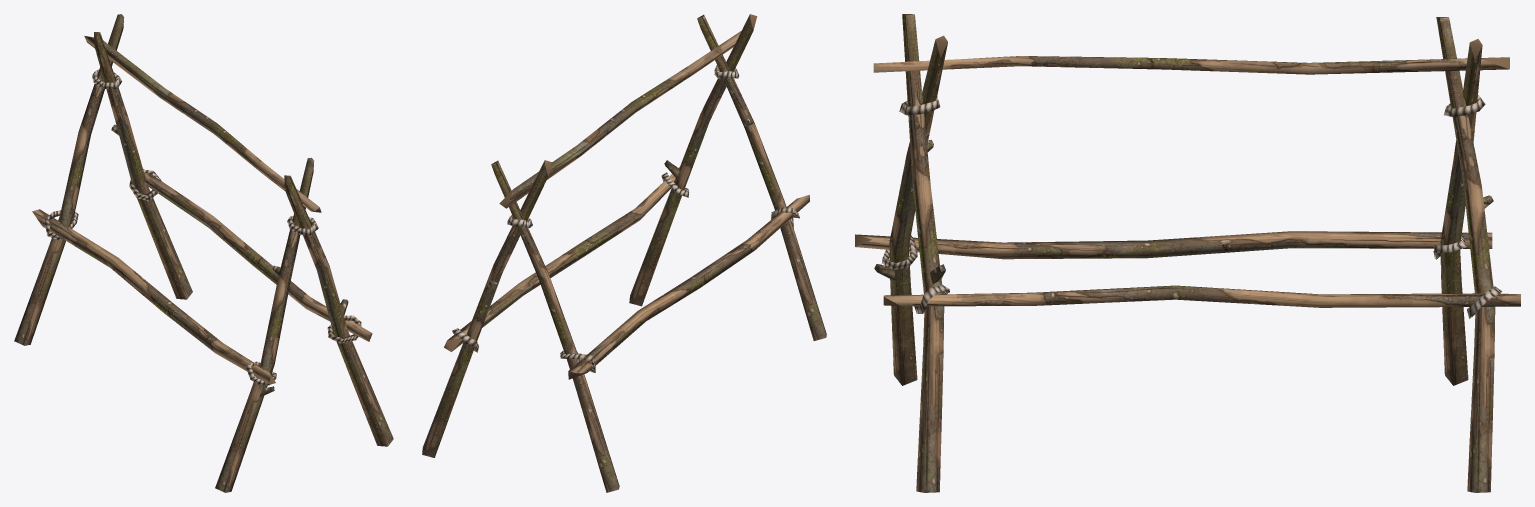
Rendered from trellis02.fbx.
The picture shows the model from 3 angles, left to right: view 1: azimuth 30°, elevation 25°; view 2: azimuth 150°, elevation 25°; view 3: azimuth 270°, elevation 25°; orthographic projection. The views are drawn at different scales.
Visible parts, largest first — view 1: trellis02; view 2: trellis02; view 3: trellis02.
Boxes of the visible parts, x1,y1,x2,y2 form: trellis02: [14, 14, 393, 492]; trellis02: [422, 14, 826, 492]; trellis02: [855, 14, 1520, 492].
Bounding box in the file's own units: 108 × 168 × 247.
